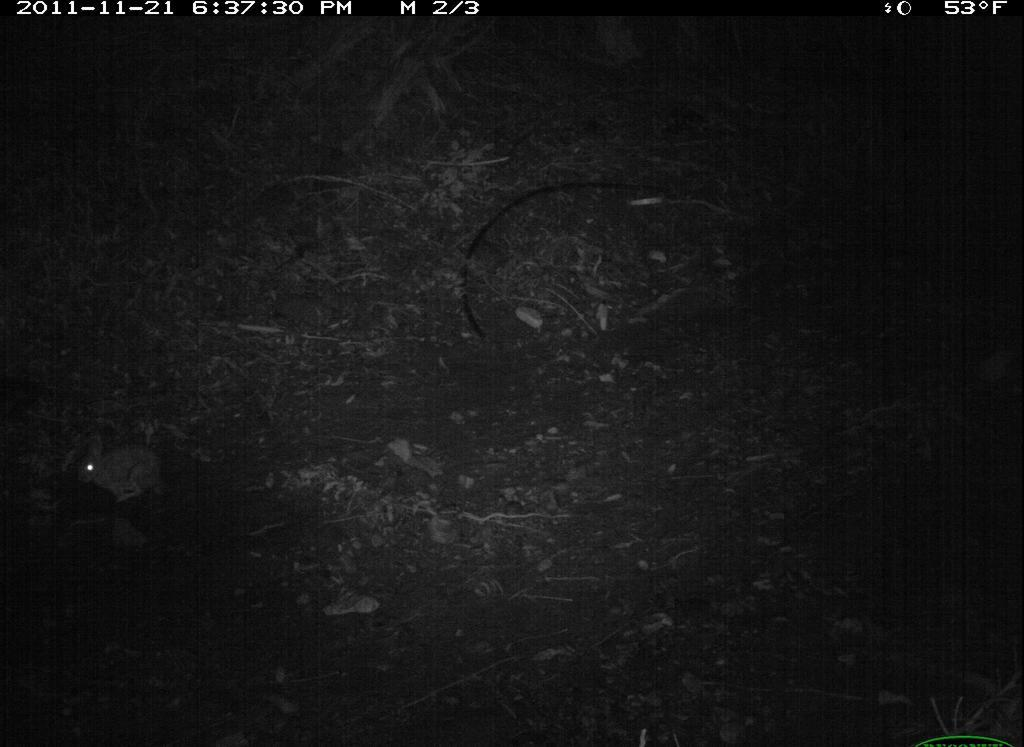rabbit: (72, 436, 180, 509)
